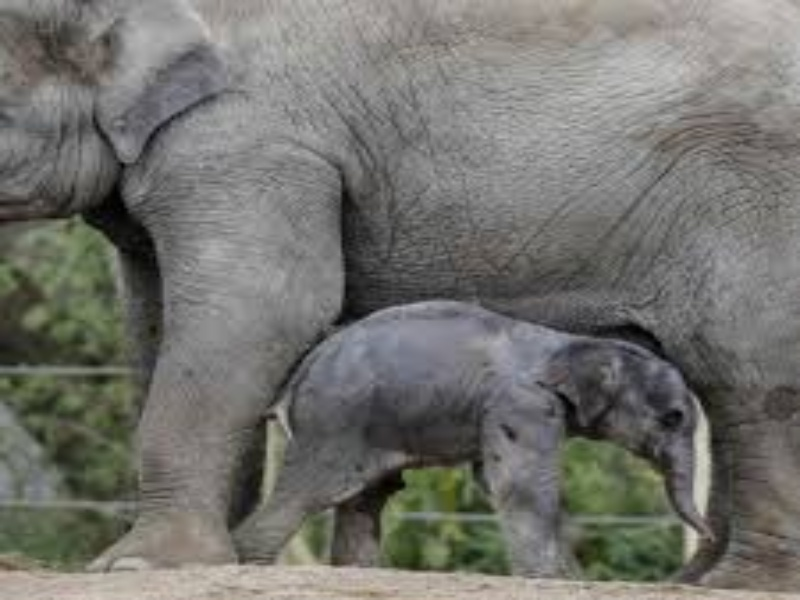elephant: (247, 294, 731, 562)
